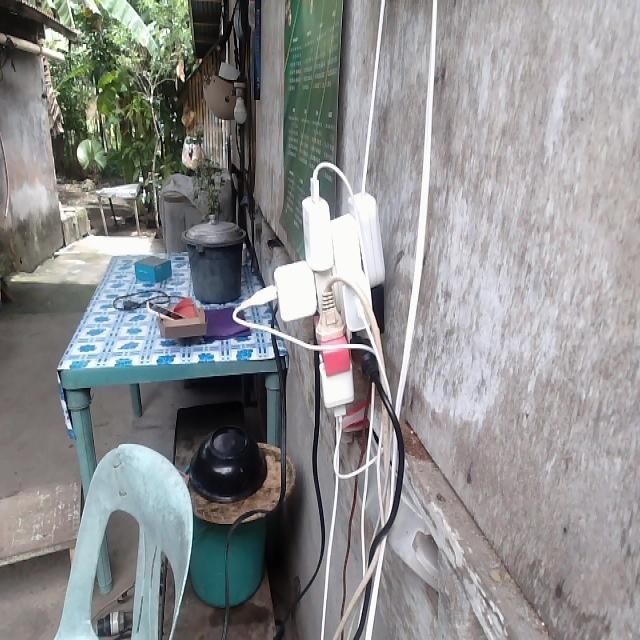-: (233, 162, 385, 426)
